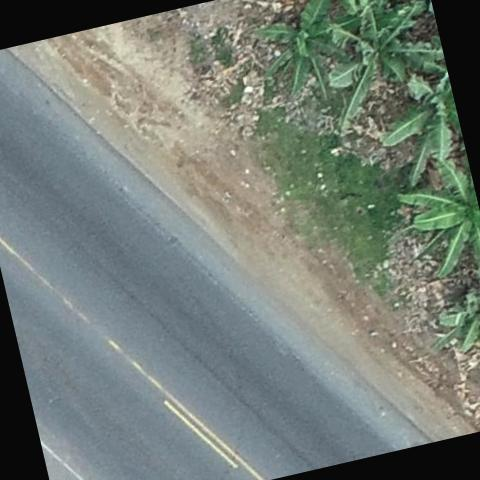Banana-plant: (316, 0, 434, 132), (372, 72, 472, 197), (251, 0, 363, 100), (395, 160, 480, 288), (427, 282, 480, 382)
